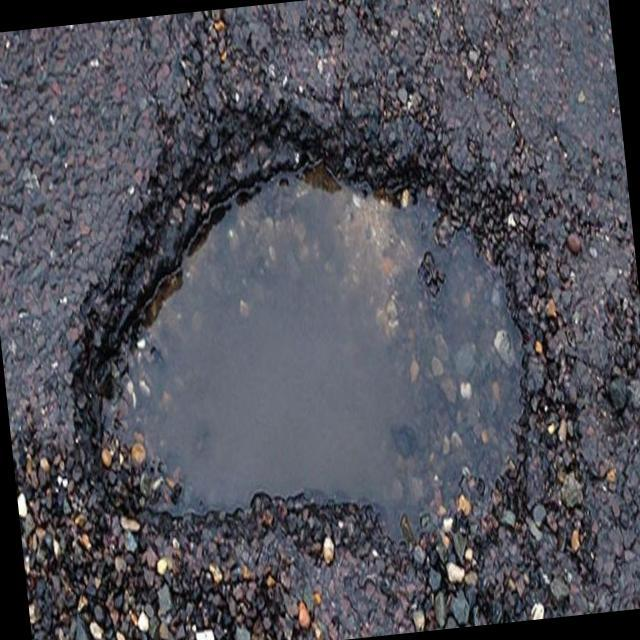Pothole: (69, 96, 530, 570)
